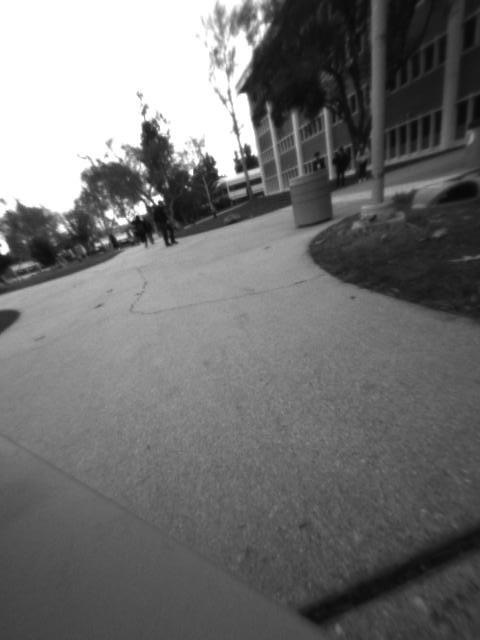trashcan: (289, 171, 336, 228)
